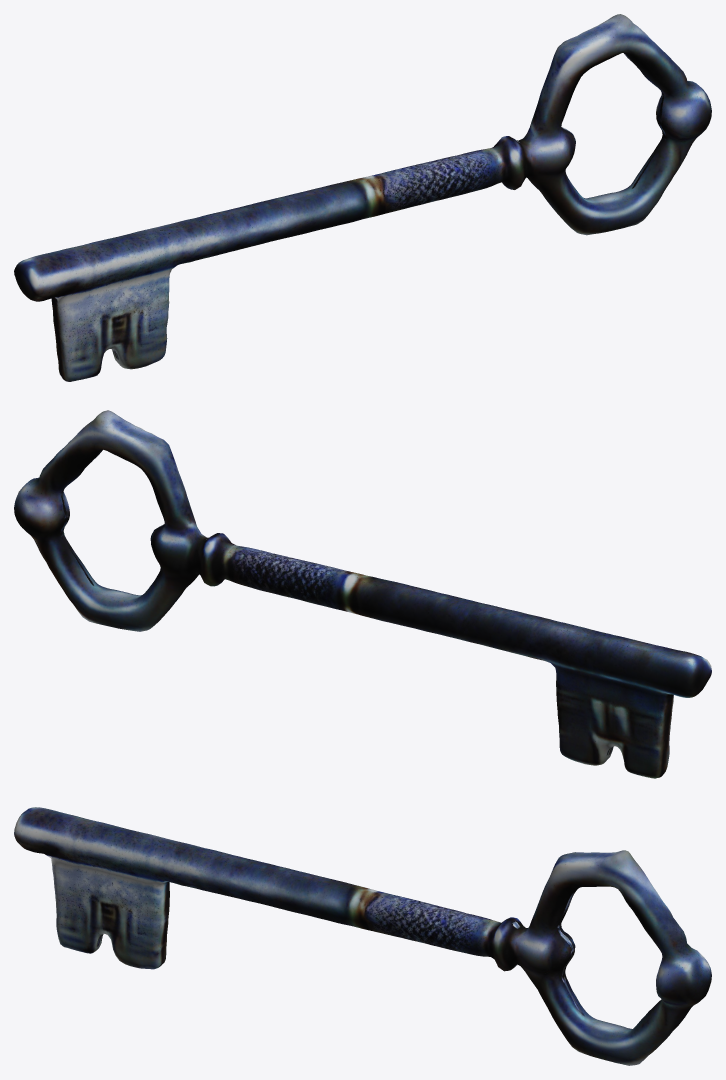
File: 8a9e97f58553_key_min.fbx
3 views of the same model, one above another, from view 1: azimuth 30°, elevation 25°; view 2: azimuth 150°, elevation 25°; view 3: azimuth 330°, elevation 25° (orthographic).
Parts seen in each view (by area): view 1: mesh; view 2: mesh; view 3: mesh.
Boxes of the visible parts, x1=… form: mesh: x1=14, y1=14, x2=711, y2=381; mesh: x1=14, y1=410, x2=711, y2=778; mesh: x1=14, y1=807, x2=711, y2=1065.
Bounding box in the file's own units: 99.99 × 32.33 × 7.34.
